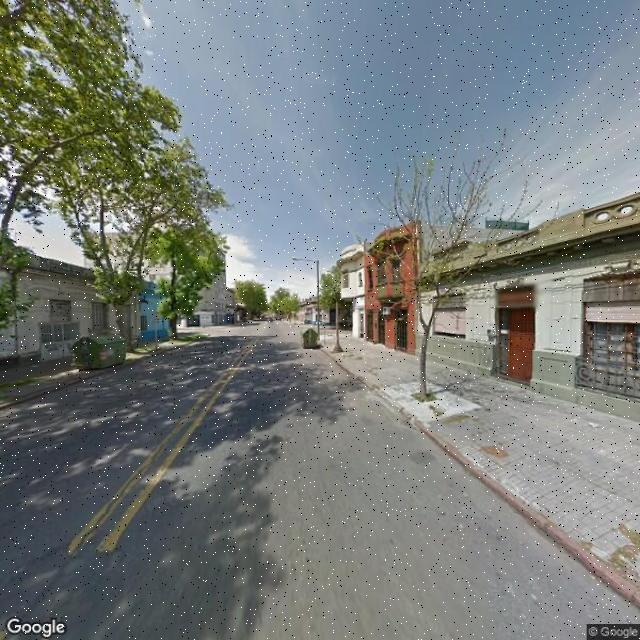garbage container: (63, 328, 140, 376), (296, 325, 325, 352)
